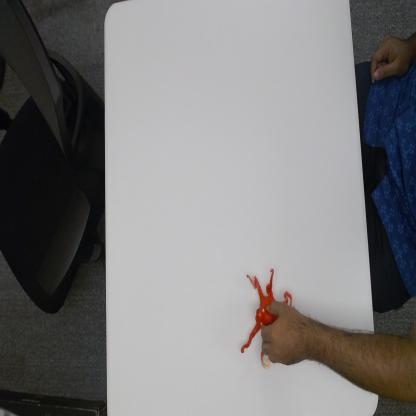Arm: (319, 321, 416, 406)
Hand: (259, 298, 319, 368)
Octopus: (239, 266, 296, 371)
